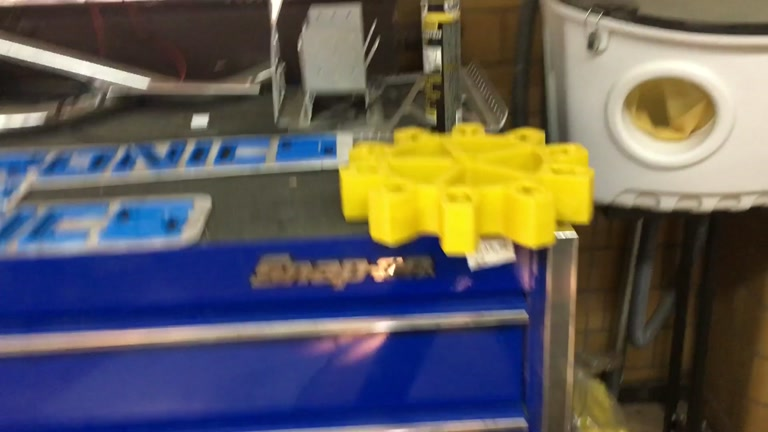gear: (339, 121, 593, 257)
